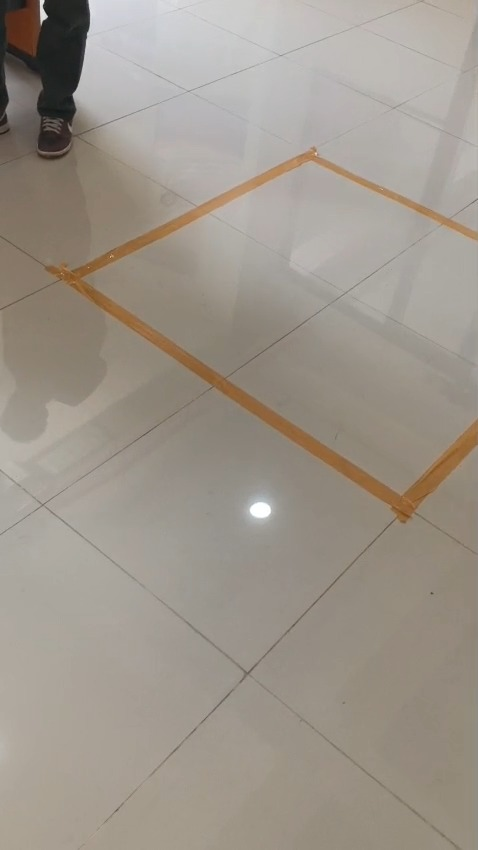floor marking: (45, 148, 477, 522)
